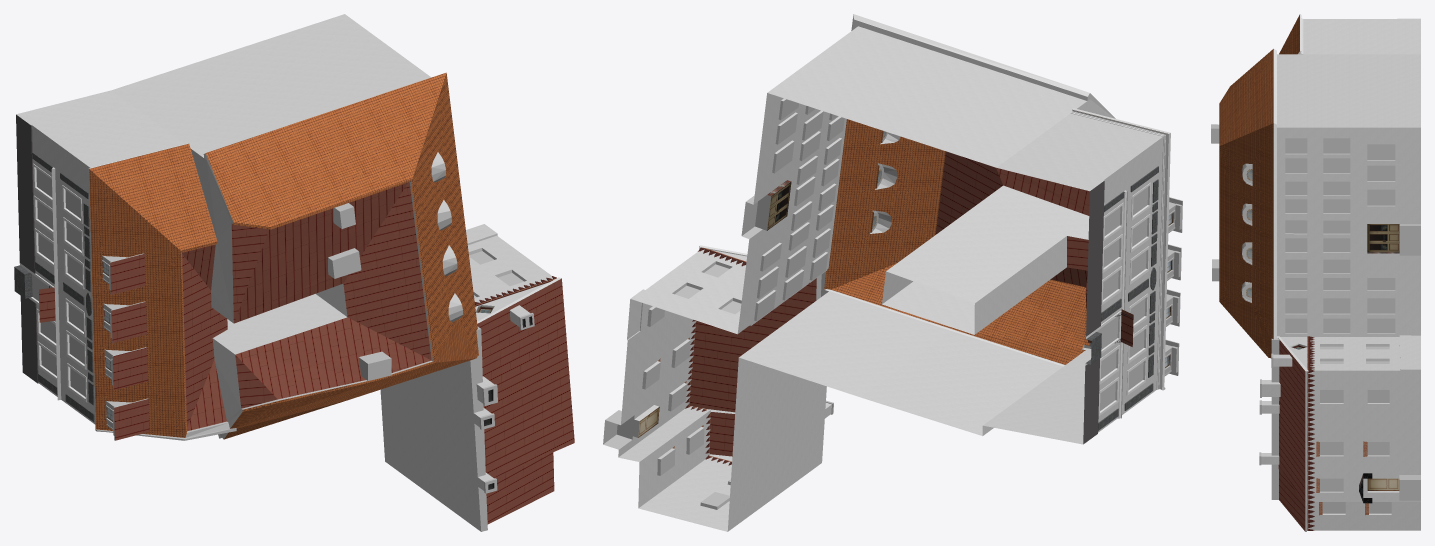
Rendered from Uus_28.obj.
3 renders of one model, left to right at view 1: azimuth 30°, elevation 25°; view 2: azimuth 150°, elevation 25°; view 3: azimuth 270°, elevation 25°, orthographic. The views are drawn at different scales.
Visible parts, largest first — view 1: Uus28; view 2: Uus28; view 3: Uus28.
Part boxes in pixels (left/top/right/bottom): Uus28: left=14, top=14, right=574, bottom=531; Uus28: left=603, top=14, right=1182, bottom=531; Uus28: left=1211, top=14, right=1420, bottom=531.
Bounding box in the file's own units: 32.45 × 28.45 × 14.95.
